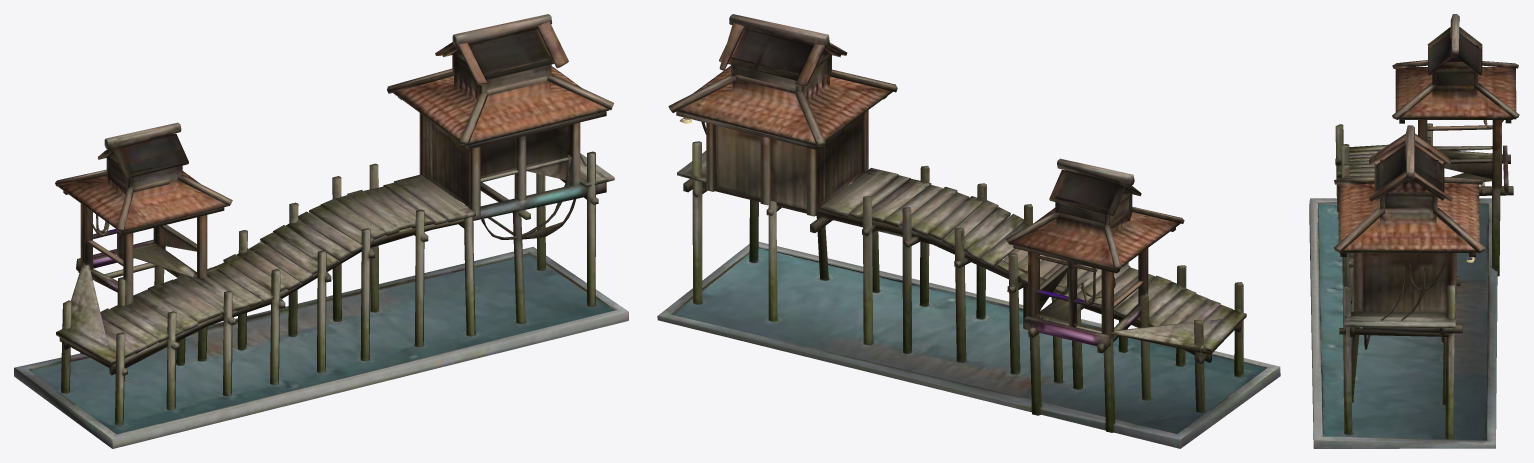
File: lm_u_bein.glb
3 views of the same model, side by side, from view 1: azimuth 30°, elevation 25°; view 2: azimuth 150°, elevation 25°; view 3: azimuth 270°, elevation 25° (orthographic). The views are drawn at different scales.
Visible parts, largest first — view 1: Body; view 2: Body; view 3: Body.
Boxes of the visible parts, x1,y1,x2,y2 form: Body: (14, 14, 628, 448); Body: (657, 14, 1280, 448); Body: (1309, 14, 1519, 448).
Bounding box in the file's own units: 8.64 × 4.49 × 3.17.
2 materials, 2 textured.
